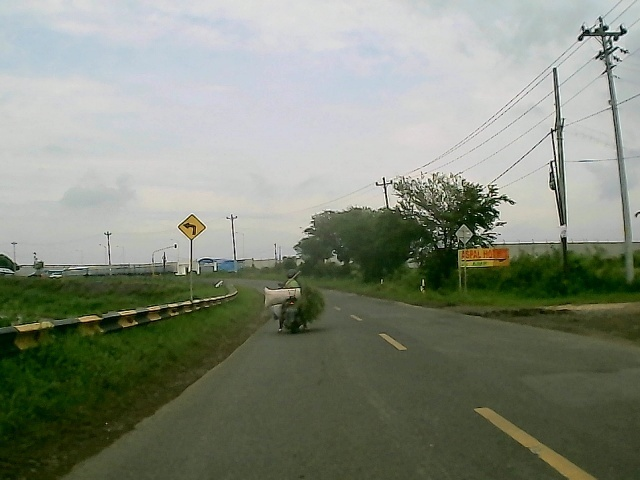Tikungan tajam ke kiri: (174, 214, 207, 241)
